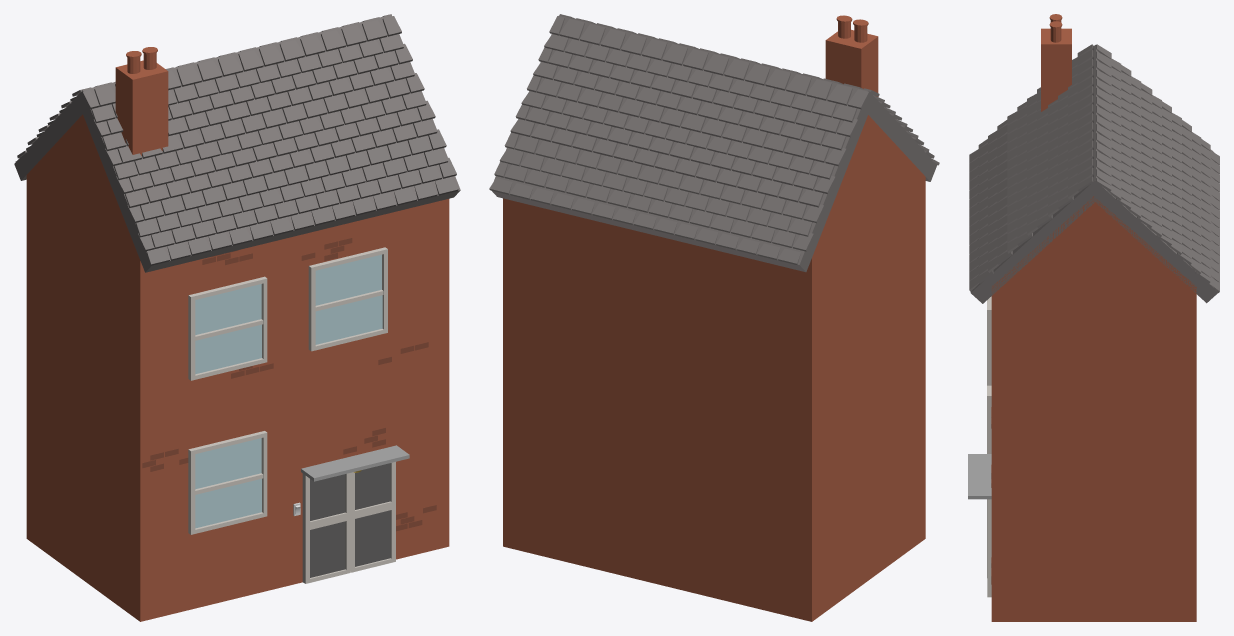
File: huis_niet_inloop 1.fbx
3 renders of one model, left to right at view 1: azimuth 30°, elevation 25°; view 2: azimuth 150°, elevation 25°; view 3: azimuth 270°, elevation 25°, orthographic. The views are drawn at different scales.
Parts seen in each view (by area): view 1: pCube172, pCube4, polySurface230, pCube171, polySurface231, polySurface386, polySurface280, polySurface431, polySurface429, polySurface384, polySurface278, polySurface387 (+5 smaller); view 2: pCube172, pCube4, pCube171, group3_group2_polySurface17, polySurface417; view 3: pCube172, pCube4, pCube171, pCube240, group3_group2_polySurface16, polySurface417, group3_group2_polySurface17, polySurface231, polySurface282.
Boxes of the visible parts, x1,y1,x2,y2 form: pCube172: [26, 114, 449, 621]; pCube4: [14, 14, 460, 272]; polySurface230: [310, 463, 390, 577]; pCube171: [115, 60, 168, 155]; polySurface231: [302, 462, 395, 583]; polySurface386: [195, 438, 261, 489]; polySurface280: [195, 284, 261, 334]; polySurface431: [315, 254, 381, 305]; polySurface429: [315, 295, 382, 344]; polySurface384: [195, 478, 261, 528]; polySurface278: [195, 324, 261, 374]; polySurface387: [188, 431, 267, 534]; pCube172: [503, 115, 925, 621]; pCube4: [492, 15, 937, 272]; pCube171: [825, 29, 878, 96]; group3_group2_polySurface17: [793, 89, 869, 251]; polySurface417: [494, 16, 564, 177]; pCube172: [991, 196, 1196, 621]; pCube4: [970, 45, 1217, 303]; pCube171: [1041, 28, 1071, 111]; pCube240: [968, 454, 991, 499]; group3_group2_polySurface16: [978, 176, 1093, 283]; polySurface417: [1096, 178, 1210, 283]; group3_group2_polySurface17: [1096, 44, 1210, 150]; polySurface231: [987, 499, 991, 597]; polySurface282: [987, 296, 991, 385].
Bounding box in the file's own units: 4.49 × 7.36 × 3.49.
